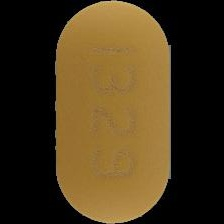13668-329: (0, 0, 224, 224)
